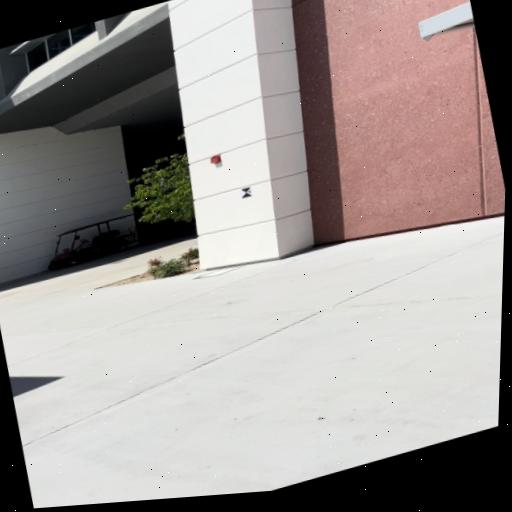target6: (240, 186, 252, 198)
